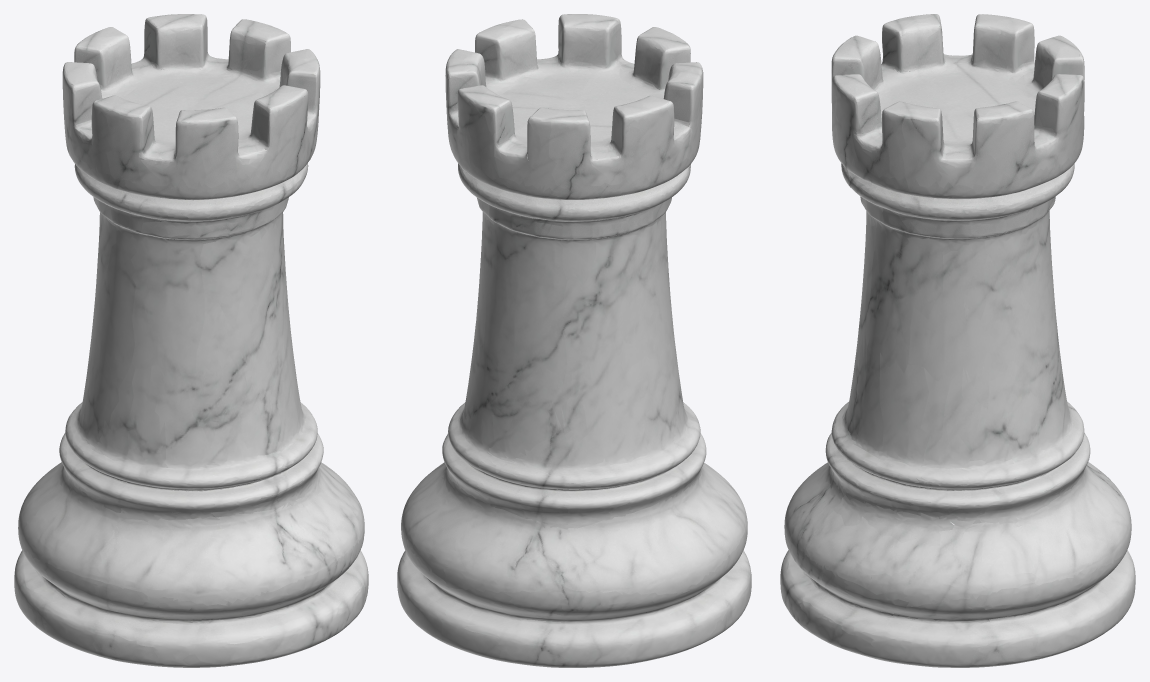
Rendered from rook.glb.
3 views of the same model, side by side, from view 1: azimuth 30°, elevation 25°; view 2: azimuth 150°, elevation 25°; view 3: azimuth 270°, elevation 25° (orthographic).
Parts seen in each view (by area): view 1: Mesh_0; view 2: Mesh_0; view 3: Mesh_0.
Part boxes in pixels (left/top/right/bottom): Mesh_0: left=14, top=14, right=368, bottom=667; Mesh_0: left=397, top=14, right=751, bottom=667; Mesh_0: left=780, top=14, right=1135, bottom=667.
Bounding box in the file's own units: 1.15 × 1.9 × 1.15.
1 material, 1 textured.
